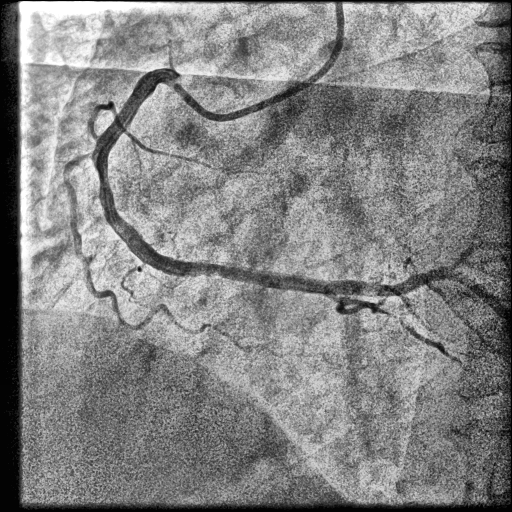pborca: (331, 266, 496, 308)
pda: (327, 296, 459, 363)
rca: (92, 68, 333, 295)
